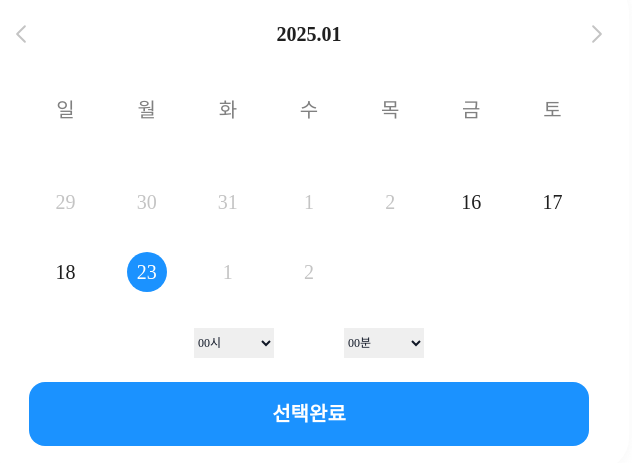
CalendarCard › navigates to next month
Click the picture with alt text "다음 달".
click(597, 34)  # box [579,16,615,52]
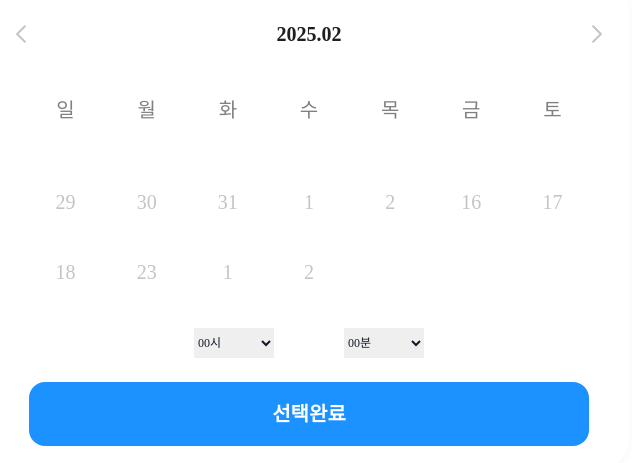
Result: the text "2025.02" is shown at [276,19,342,49]
